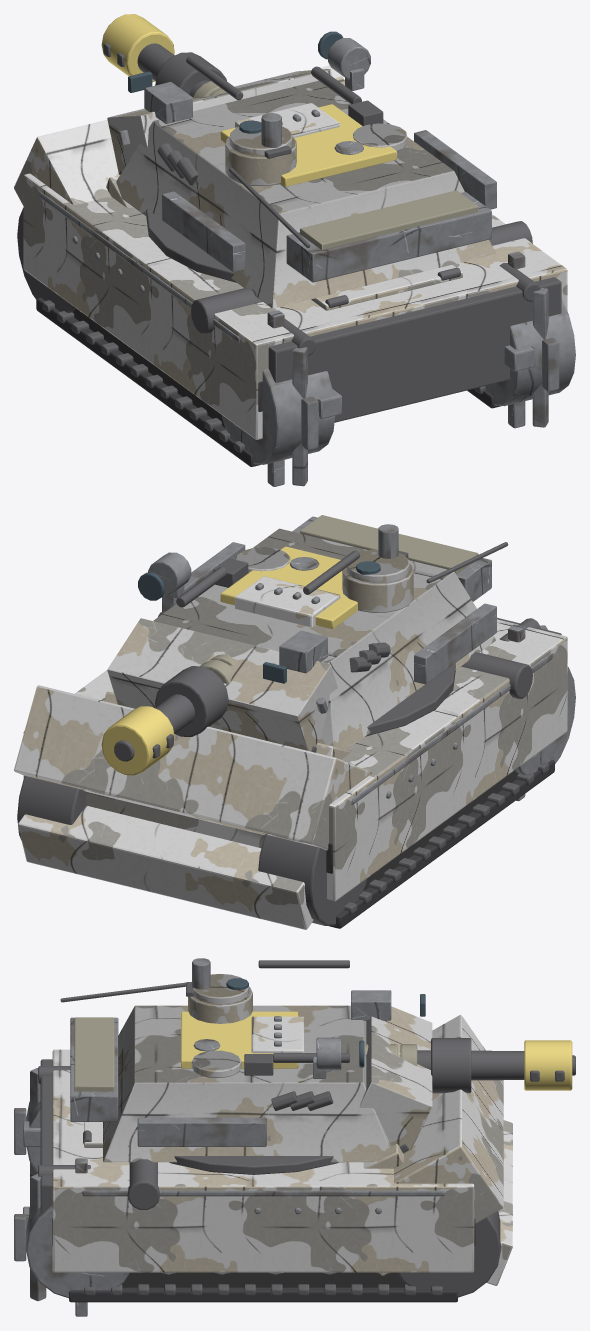
The model's file is tank_medium.glb.
3 views of the same model, one above another, from view 1: azimuth 30°, elevation 25°; view 2: azimuth 150°, elevation 25°; view 3: azimuth 270°, elevation 25° (orthographic). The views are drawn at different scales.
Visible parts, largest first — view 1: HullMesh, TurretMesh, BarrelMesh; view 2: HullMesh, TurretMesh, BarrelMesh; view 3: HullMesh, TurretMesh, BarrelMesh, Wheel_R2, Wheel_R4, Wheel_R3, Wheel_R1, Wheel_R0.
Part boxes in pixels (x1,y1,x2,y2): HullMesh: (14,65,575,486); TurretMesh: (107,31,496,308); BarrelMesh: (101,14,340,137); HullMesh: (14,617,575,929); TurretMesh: (107,515,508,751); BarrelMesh: (101,576,340,775); HullMesh: (14,1015,512,1316); TurretMesh: (60,958,432,1174); BarrelMesh: (251,1016,575,1093); Wheel_R2: (240,1272,311,1287); Wheel_R4: (132,1272,203,1287); Wheel_R3: (186,1272,258,1287); Wheel_R1: (294,1272,365,1287); Wheel_R0: (347,1272,406,1287).
Bounding box in the file's own units: 3.55 × 3.17 × 5.86.
7 materials, 2 textured.
